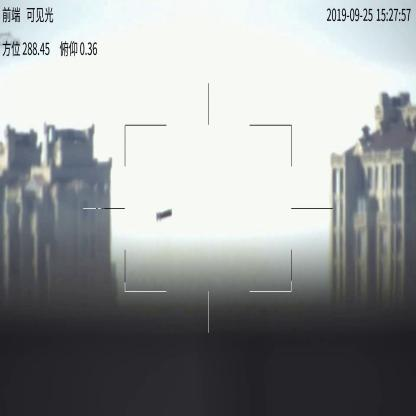uav: (155, 209, 173, 220)
